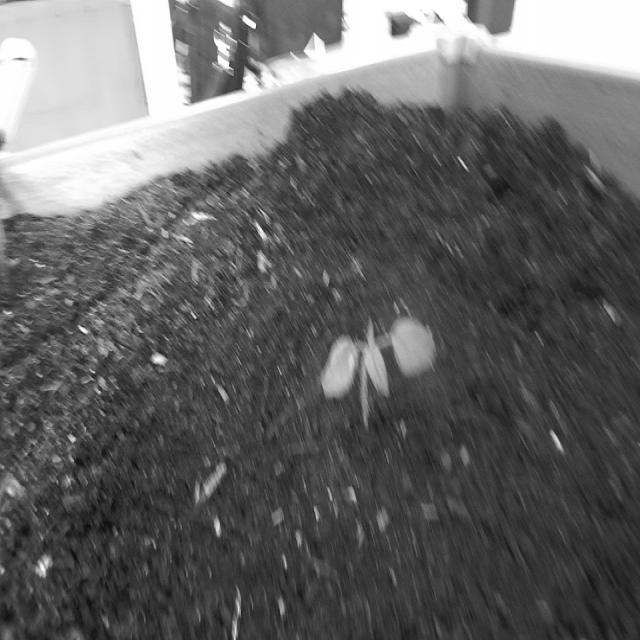Healthy: (308, 286, 442, 444)
